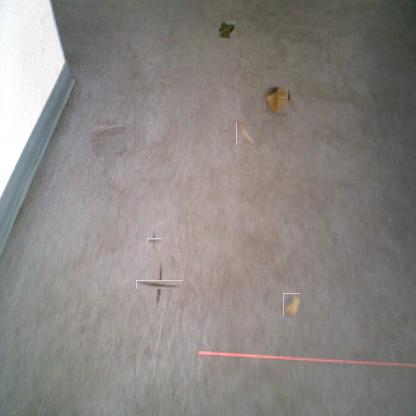dirty: (264, 86, 289, 112), (235, 123, 257, 144), (283, 293, 300, 316), (218, 20, 236, 38)
mark: (94, 122, 126, 154), (146, 270, 173, 298), (150, 236, 160, 245)
